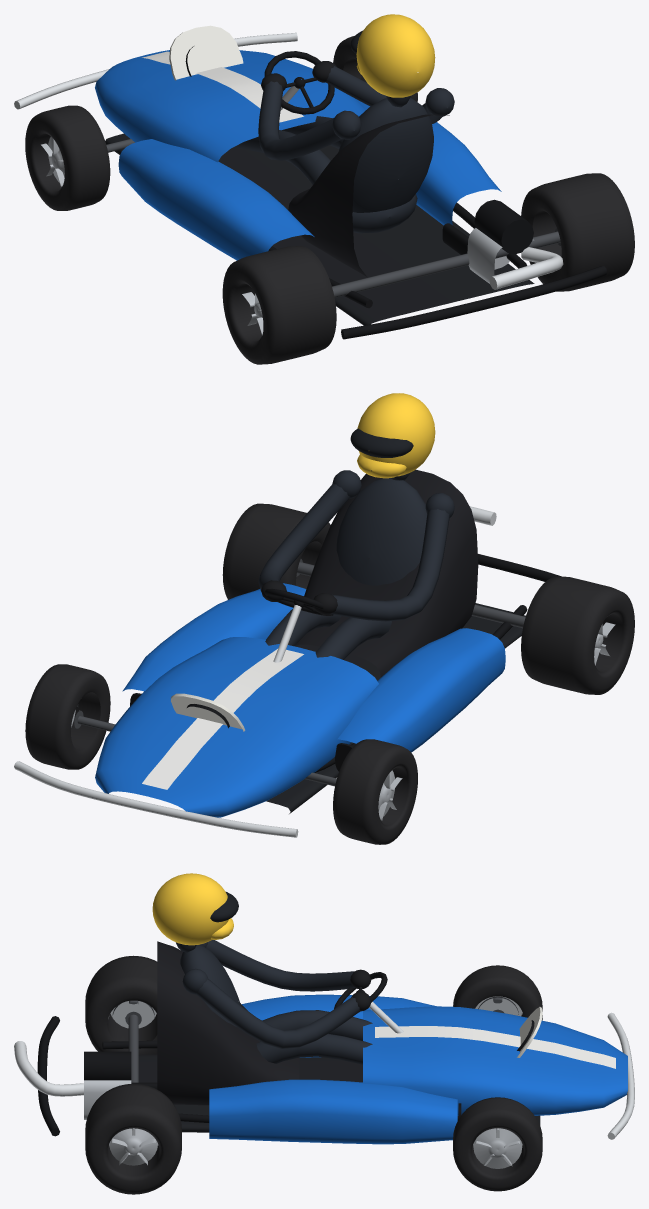
The model's file is go-kart-blue.05887968.glb.
3 renders of one model, top to bottom at view 1: azimuth 30°, elevation 25°; view 2: azimuth 150°, elevation 25°; view 3: azimuth 270°, elevation 25°, orthographic. The views are drawn at different scales.
Parts seen in each view (by area): view 1: chassis, wheel_rl, wheel_rr, wheel_fl, steer_wheel, wheel_fr; view 2: chassis, wheel_rl, wheel_fl, wheel_fr, wheel_rr, steer_wheel; view 3: chassis, wheel_rr, wheel_fr, wheel_rl, wheel_fl.
Boxes of the visible parts, bbox=[...] form: chassis: bbox=[14, 14, 607, 339]; wheel_rl: bbox=[222, 246, 336, 364]; wheel_rr: bbox=[521, 173, 634, 291]; wheel_fl: bbox=[25, 105, 110, 210]; steer_wheel: bbox=[264, 51, 334, 114]; wheel_fr: bbox=[333, 36, 417, 101]; chassis: bbox=[14, 393, 561, 837]; wheel_rl: bbox=[521, 576, 634, 694]; wheel_fl: bbox=[333, 739, 417, 844]; wheel_fr: bbox=[25, 664, 110, 769]; wheel_rr: bbox=[222, 503, 330, 599]; steer_wheel: bbox=[264, 588, 333, 615]; chassis: bbox=[14, 873, 634, 1144]; wheel_rr: bbox=[85, 1083, 181, 1194]; wheel_fr: bbox=[453, 1097, 542, 1191]; wheel_rl: bbox=[85, 955, 157, 1054]; wheel_fl: bbox=[453, 965, 542, 1020].
Bounding box in the file's own units: 1.57 × 1.13 × 2.63.
